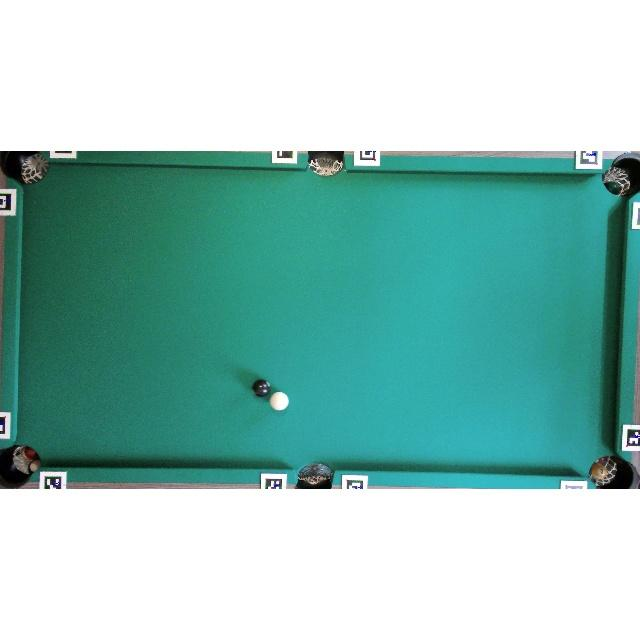cue ball: (269, 391, 289, 411)
other: (252, 378, 270, 398)
